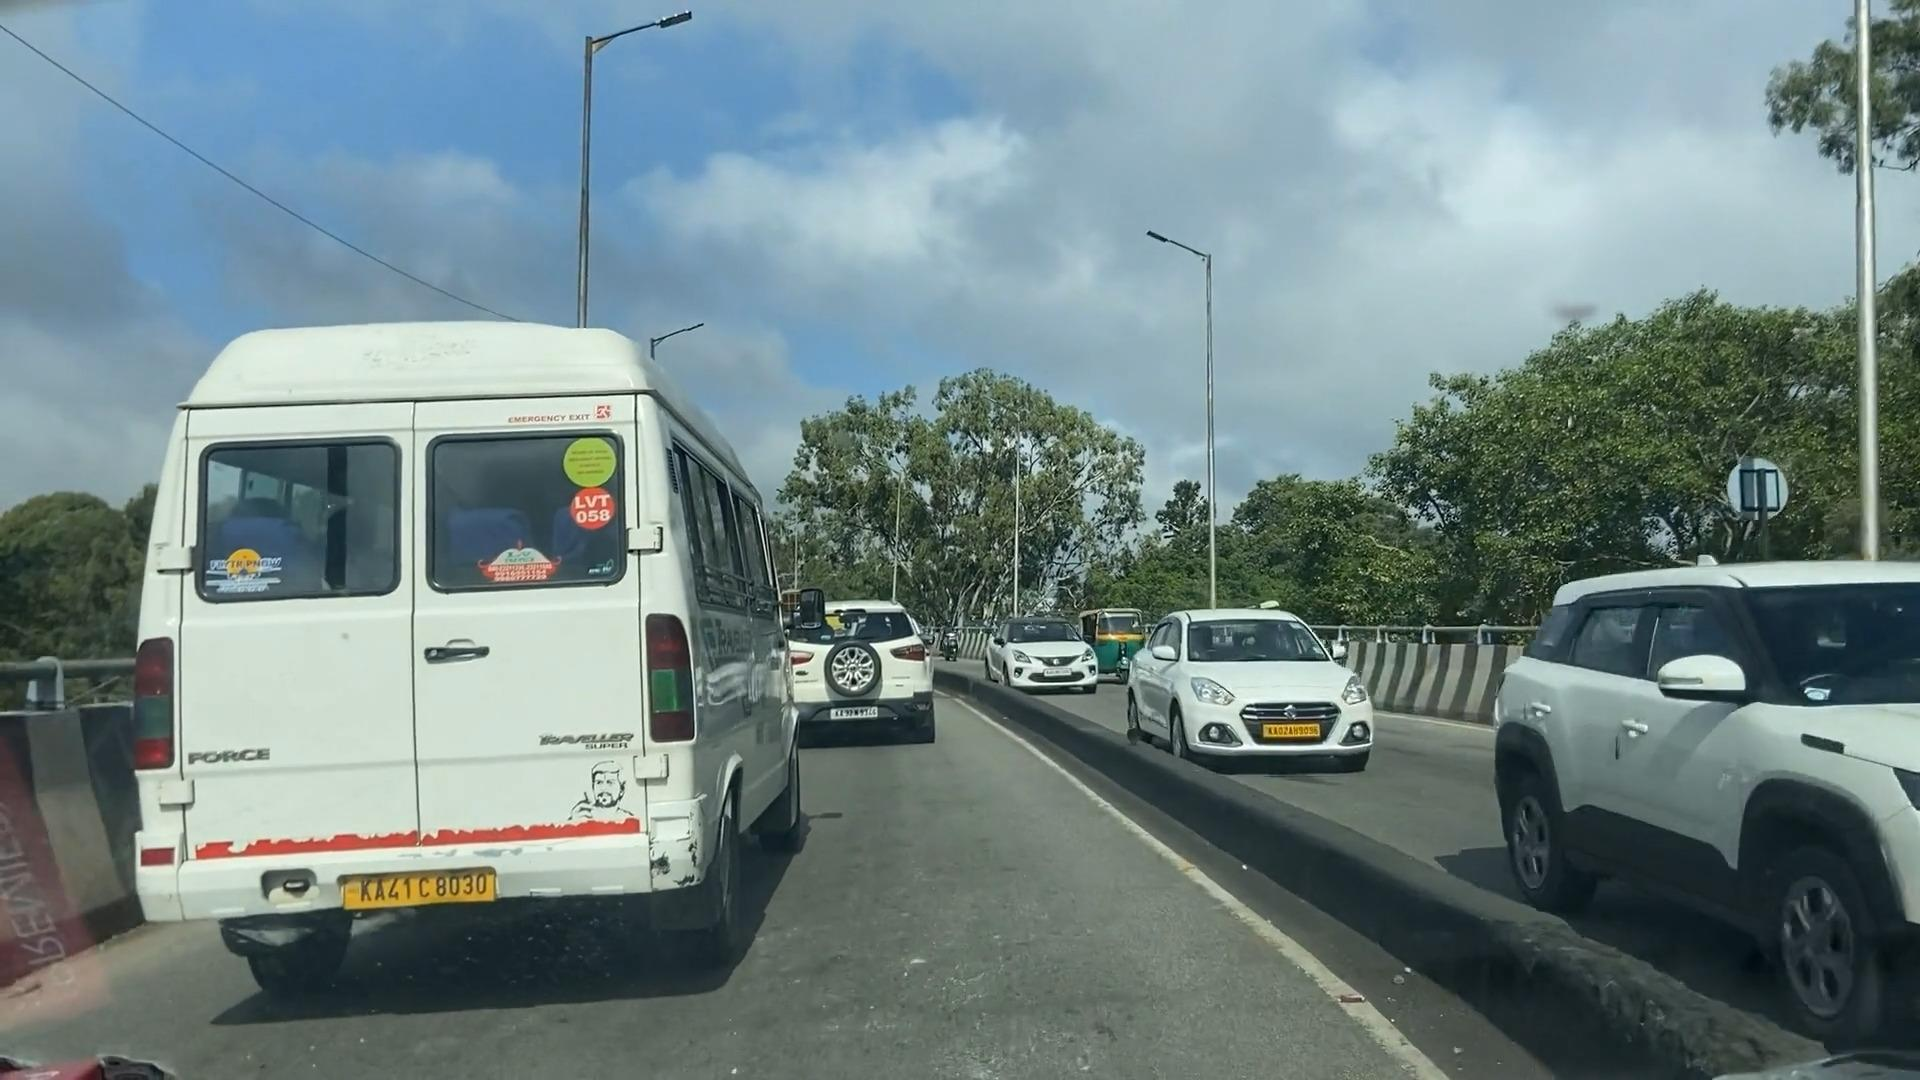HMV: (129, 327, 789, 953)
LMV: (783, 595, 938, 745)
